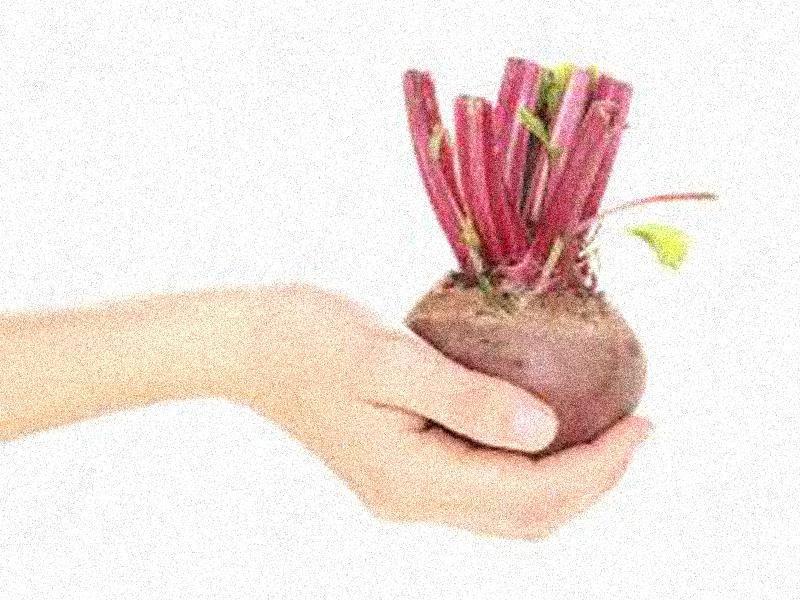Beet: (405, 58, 719, 459)
